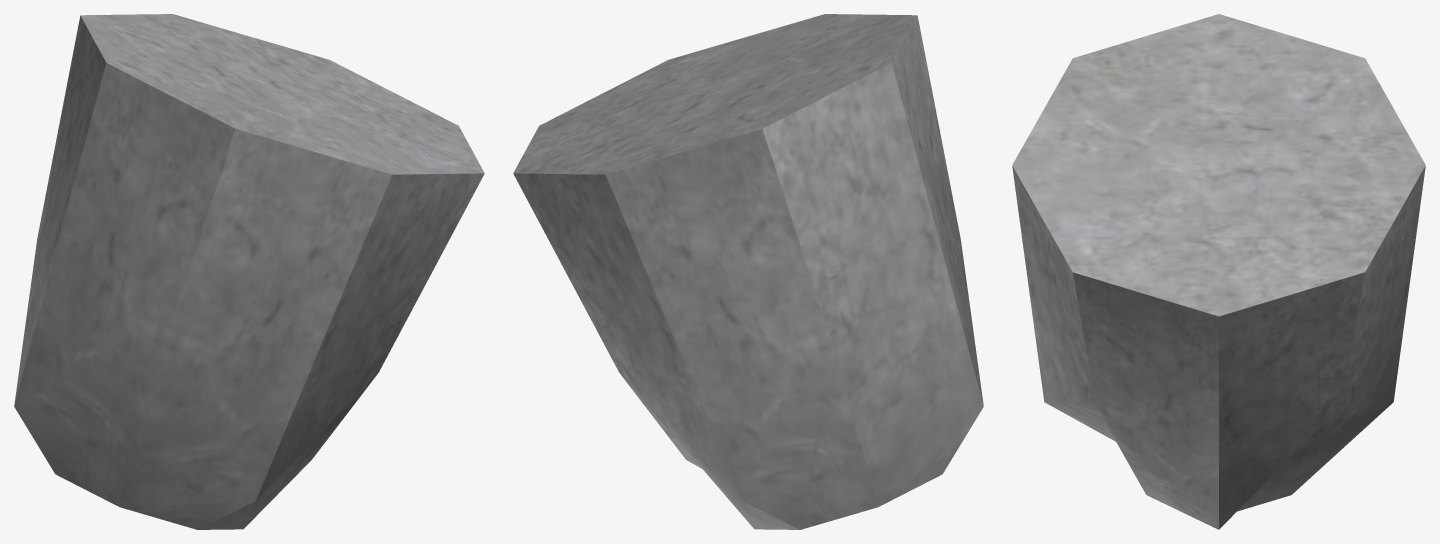
File: Manija_04.glb
3 renders of one model, left to right at view 1: azimuth 30°, elevation 25°; view 2: azimuth 150°, elevation 25°; view 3: azimuth 270°, elevation 25°, orthographic. The views are drawn at different scales.
Parts seen in each view (by area): view 1: Manija_04; view 2: Manija_04; view 3: Manija_04.
Boxes of the visible parts, x1,y1,x2,y2 form: Manija_04: (14, 14, 484, 529); Manija_04: (513, 14, 983, 529); Manija_04: (1012, 14, 1425, 529).
Bounding box in the file's own units: 0.0874 × 0.0889 × 0.0747.
1 material, 1 textured.
